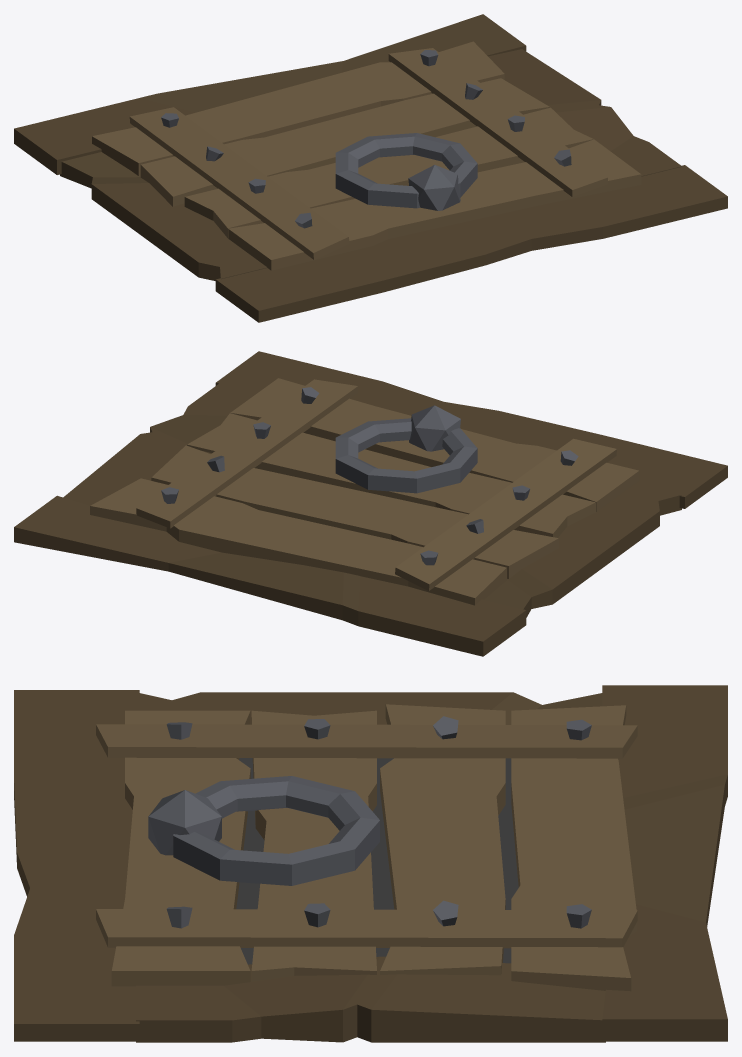
The model's file is Trapdoor.glb.
3 views of the same model, one above another, from view 1: azimuth 30°, elevation 25°; view 2: azimuth 150°, elevation 25°; view 3: azimuth 270°, elevation 25° (orthographic). The views are drawn at different scales.
Parts seen in each view (by area): view 1: Trapdoor; view 2: Trapdoor; view 3: Trapdoor.
Boxes of the visible parts, bbox=[...] form: Trapdoor: bbox=[14, 14, 727, 322]; Trapdoor: bbox=[14, 351, 727, 656]; Trapdoor: bbox=[14, 685, 727, 1042].
Bounding box in the file's own units: 1.74 × 0.2152 × 1.57.
